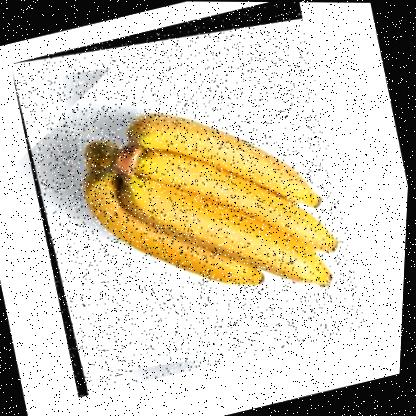banana: (0, 0, 381, 400)
